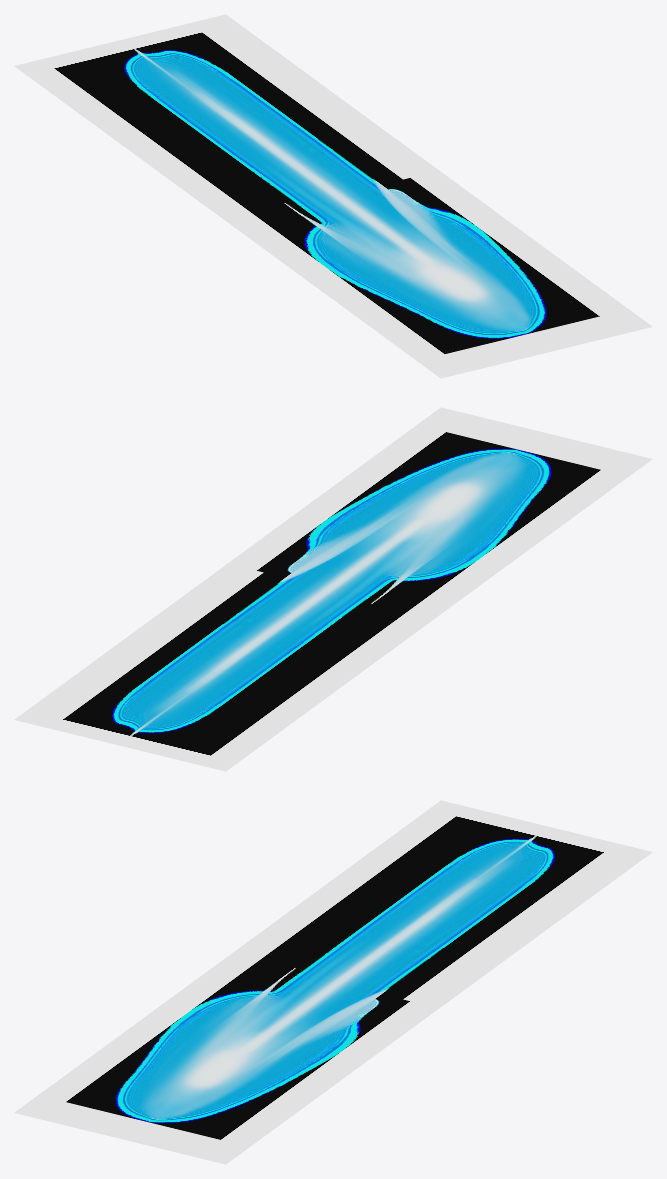
File: meteor01.fbx
3 views of the same model, one above another, from view 1: azimuth 30°, elevation 25°; view 2: azimuth 150°, elevation 25°; view 3: azimuth 330°, elevation 25° (orthographic).
Parts seen in each view (by area): view 1: meteor01; view 2: meteor01; view 3: meteor01.
Part boxes in pixels (x1,y1,x2,y2): meteor01: (14,14,652,378); meteor01: (14,407,652,771); meteor01: (14,800,652,1164).
Size of the model in its own units: 2.87 by 0 by 10.
1 material, 1 textured.
